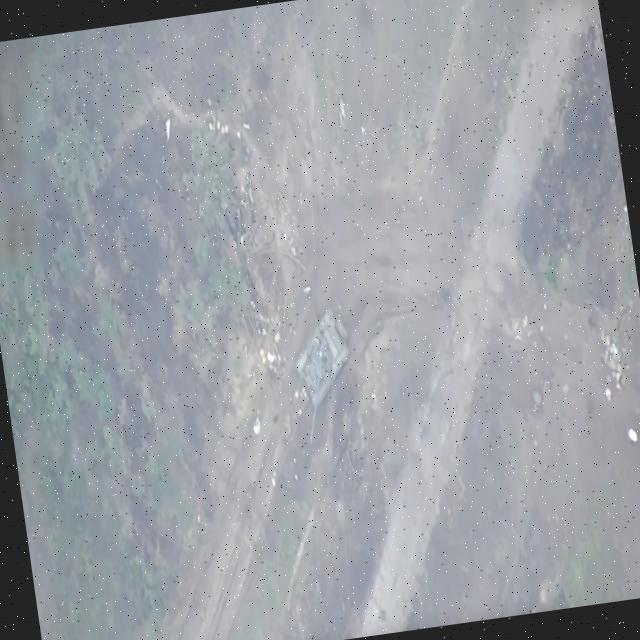MBT: (286, 304, 364, 448)
